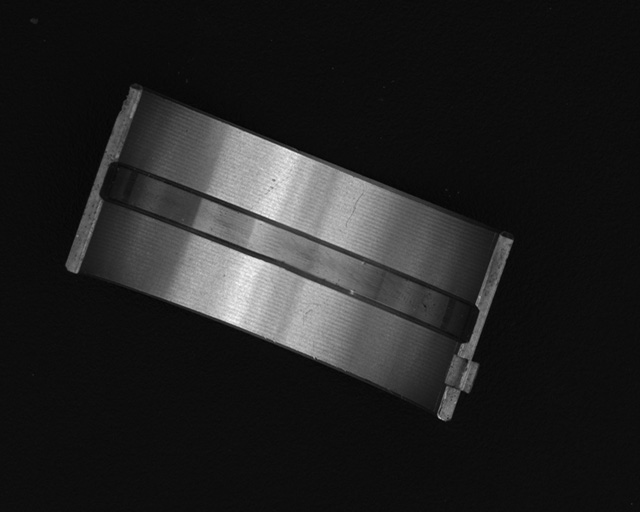gap: (99, 163, 479, 341)
nick: (345, 191, 365, 227)
